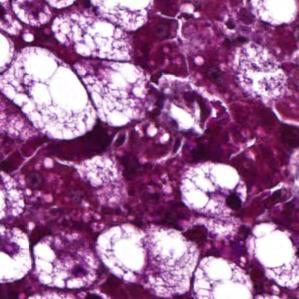ballooning: (0, 46, 98, 143), (92, 220, 204, 299), (178, 160, 249, 218)
